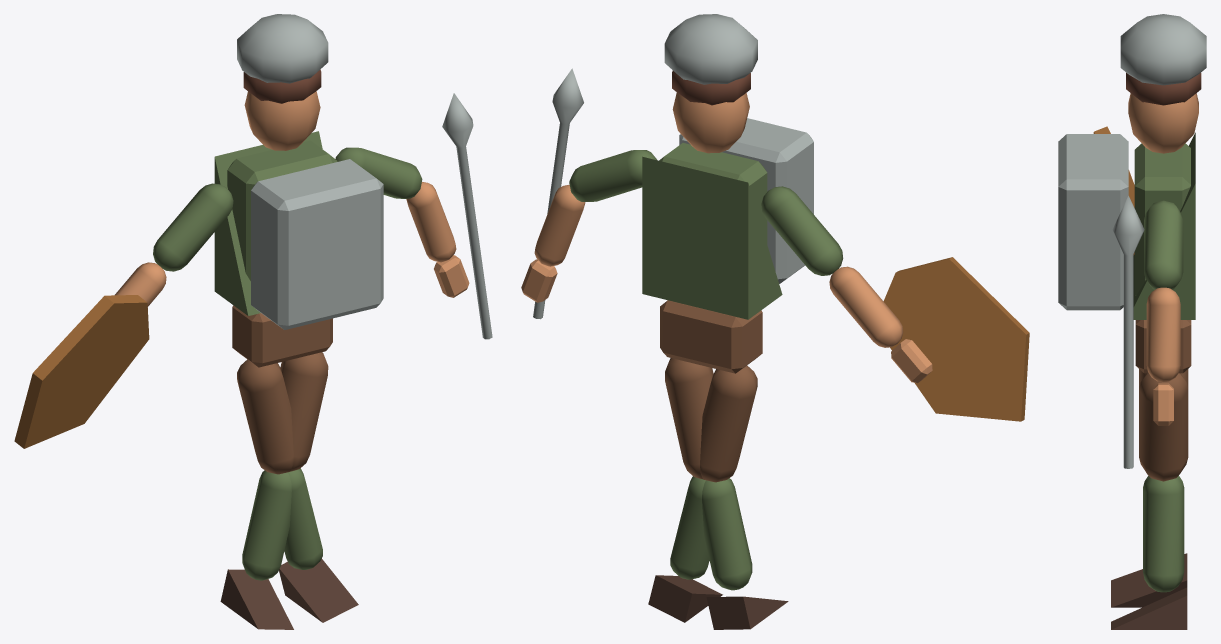
The model's file is adventurer.rustic.glb.
The picture shows the model from 3 angles, left to right: view 1: azimuth 30°, elevation 25°; view 2: azimuth 150°, elevation 25°; view 3: azimuth 270°, elevation 25°; orthographic projection.
Parts seen in each view (by area): view 1: accessory.body, accessory.off-hand, accessory.head, thigh.left, shin.right, torso, pelvis, upper-arm.left, tunic, thigh.right, head, accessory.main-hand (+8 smaller); view 2: tunic, accessory.off-hand, pelvis, accessory.body, accessory.head, thigh.left, shin.right, upper-arm.left, thigh.right, head, forearm.left, upper-arm.right (+9 smaller); view 3: accessory.body, accessory.head, shin.left, thigh.right, torso, accessory.main-hand, upper-arm.right, head, forearm.right, tunic, foot.left, foot.right (+4 smaller).
Part boxes in pixels (x1,y1,x2,y2): accessory.body: [251, 159, 383, 329]; accessory.off-hand: [14, 295, 149, 448]; accessory.head: [237, 14, 328, 83]; thigh.left: [237, 359, 293, 474]; shin.right: [242, 470, 291, 580]; torso: [227, 140, 337, 280]; pelvis: [232, 305, 332, 367]; upper-arm.left: [153, 183, 233, 271]; tunic: [214, 131, 322, 315]; thigh.right: [280, 352, 328, 471]; head: [244, 91, 320, 150]; accessory.main-hand: [442, 93, 492, 339]; tunic: [642, 156, 782, 319]; accessory.off-hand: [883, 257, 1029, 421]; pelvis: [660, 300, 762, 373]; accessory.body: [679, 118, 813, 283]; accessory.head: [664, 14, 757, 84]; thigh.left: [700, 365, 757, 482]; shin.right: [702, 478, 752, 590]; upper-arm.left: [761, 186, 843, 275]; thigh.right: [665, 358, 713, 479]; head: [672, 92, 749, 153]; forearm.left: [829, 266, 903, 347]; upper-arm.right: [569, 150, 656, 201]; accessory.body: [1058, 134, 1128, 310]; accessory.head: [1120, 14, 1206, 85]; shin.left: [1143, 476, 1184, 592]; thigh.right: [1139, 373, 1188, 481]; torso: [1134, 143, 1190, 295]; accessory.main-hand: [1112, 195, 1144, 468]; upper-arm.right: [1144, 200, 1183, 289]; head: [1128, 93, 1198, 153]; forearm.right: [1146, 287, 1180, 382]; tunic: [1133, 132, 1195, 319]; foot.left: [1111, 587, 1187, 629]; foot.right: [1111, 553, 1187, 607].
Bounding box in the file's own units: 2.71 × 3.18 × 0.718.
